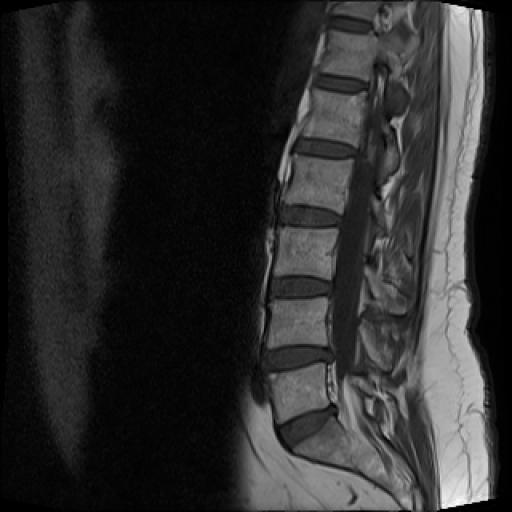L1: (301, 85, 366, 148)
L2: (284, 154, 354, 214)
L3: (273, 227, 338, 280)
L4: (267, 298, 328, 348)
L5: (269, 363, 329, 424)
S1: (293, 416, 352, 470)
